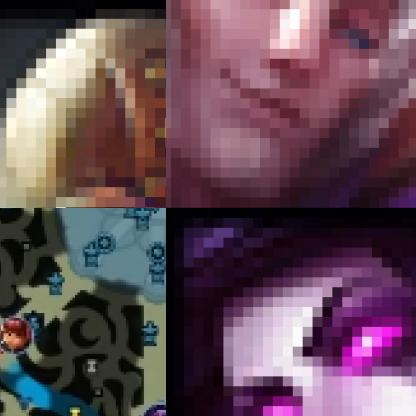Annie: (0, 315, 36, 355)
Corki: (0, 0, 165, 207)
Morgana: (166, 208, 415, 415)
Rakan: (166, 0, 415, 207)
Taric: (142, 400, 165, 415)
